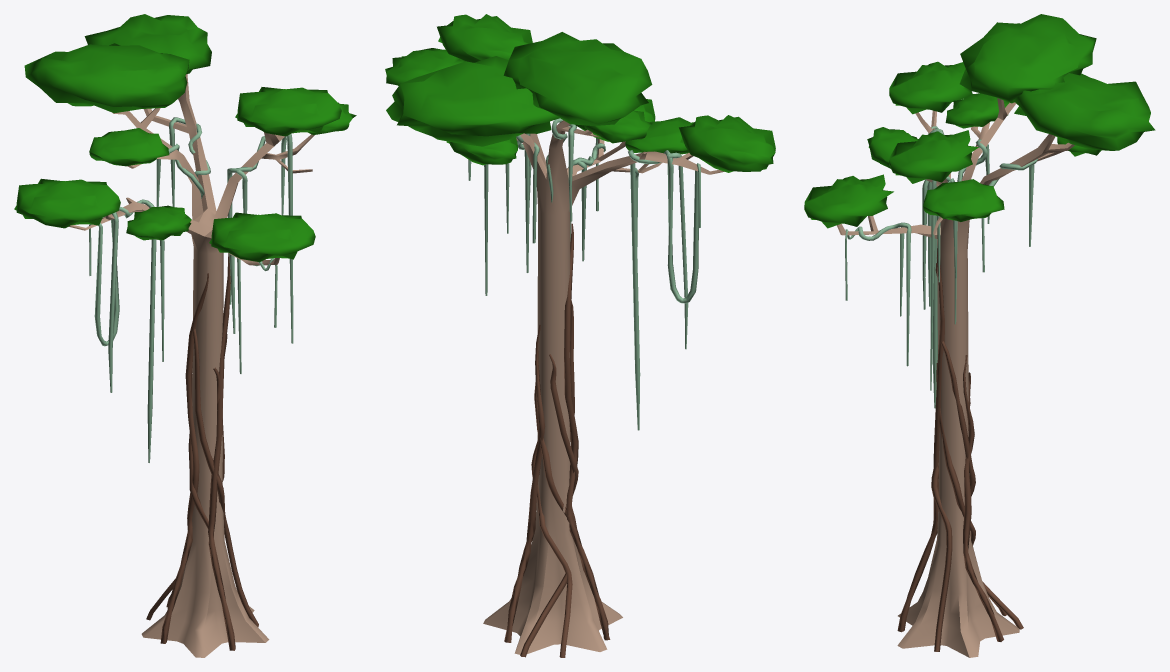
The model's file is JungleTree.fbx.
3 renders of one model, left to right at view 1: azimuth 30°, elevation 25°; view 2: azimuth 150°, elevation 25°; view 3: azimuth 270°, elevation 25°, orthographic. The views are drawn at different scales.
Visible parts, largest first — view 1: JungleTree_01_canopy, JungleTree_01, Vines_01, Vines_02; view 2: JungleTree_01_canopy, JungleTree_01, Vines_02, Vines_01; view 3: JungleTree_01_canopy, JungleTree_01, Vines_02, Vines_01.
Part boxes in pixels (bbox=[...]): JungleTree_01_canopy: bbox=[14, 14, 356, 262]; JungleTree_01: bbox=[69, 74, 314, 657]; Vines_01: bbox=[89, 117, 293, 462]; Vines_02: bbox=[146, 253, 258, 650]; JungleTree_01_canopy: bbox=[385, 14, 775, 172]; JungleTree_01: bbox=[483, 120, 724, 654]; Vines_02: bbox=[504, 223, 610, 657]; Vines_01: bbox=[468, 118, 700, 430]; JungleTree_01_canopy: bbox=[804, 14, 1155, 228]; JungleTree_01: bbox=[837, 98, 1074, 657]; Vines_02: bbox=[897, 248, 1023, 651]; Vines_01: bbox=[845, 126, 1037, 408].
Bounding box in the file's own units: 16.42 × 26.14 × 14.71.
